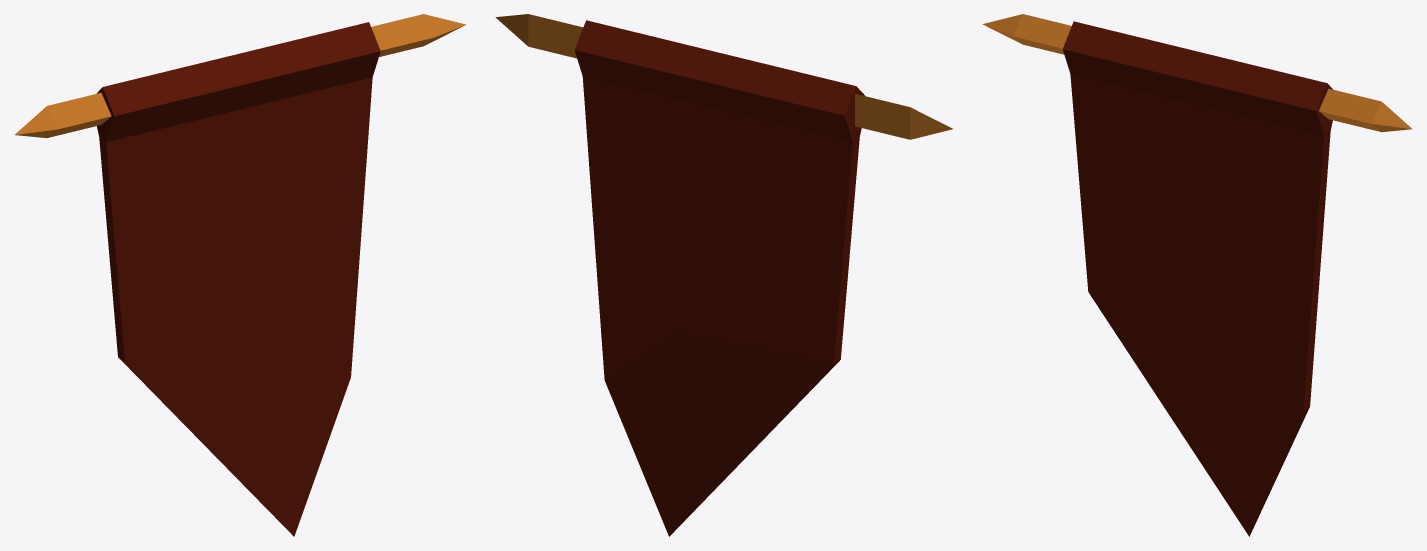
The model's file is SM_SM_Flag_02.fbx.
3 renders of one model, left to right at view 1: azimuth 30°, elevation 25°; view 2: azimuth 150°, elevation 25°; view 3: azimuth 330°, elevation 25°, orthographic. The views are drawn at different scales.
Visible parts, largest first — view 1: SM_Flag_02; view 2: SM_Flag_02; view 3: SM_Flag_02.
Boxes of the visible parts, x1=… form: SM_Flag_02: x1=15, y1=14, x2=465, y2=536; SM_Flag_02: x1=495, y1=14, x2=952, y2=536; SM_Flag_02: x1=982, y1=14, x2=1412, y2=536.
Size of the model in its own units: 98.25 by 102 by 8.73.
